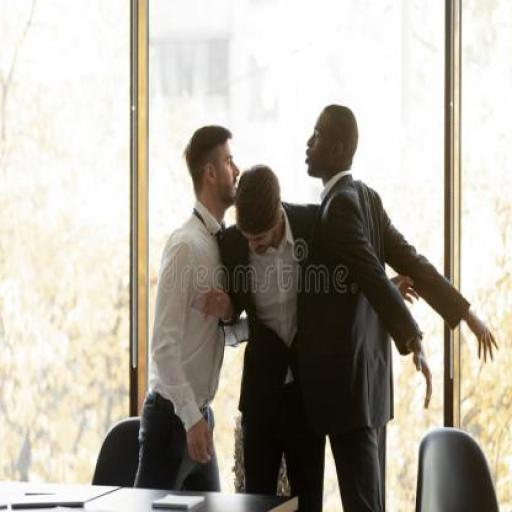Fighting: (130, 97, 496, 512)
